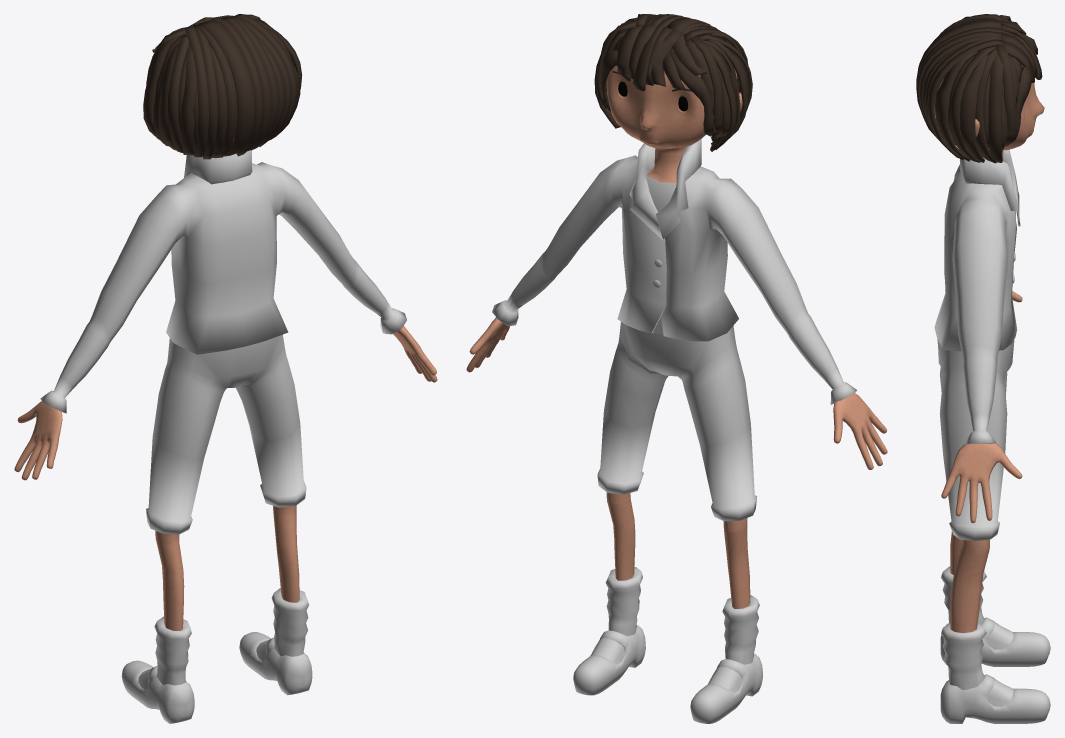
File: Nathalie.fbx
The picture shows the model from 3 angles, left to right: view 1: azimuth 30°, elevation 25°; view 2: azimuth 150°, elevation 25°; view 3: azimuth 270°, elevation 25°; orthographic projection.
Visible parts, largest first — view 1: Cuerpo Nathalie (juego).003; view 2: Cuerpo Nathalie (juego).003; view 3: Cuerpo Nathalie (juego).003.
Part boxes in pixels (box(x1,y1,x2,y2)): Cuerpo Nathalie (juego).003: box(14, 14, 437, 723); Cuerpo Nathalie (juego).003: box(466, 14, 887, 723); Cuerpo Nathalie (juego).003: box(916, 14, 1050, 723).
Bounding box in the file's own units: 152 × 238 × 43.62.
